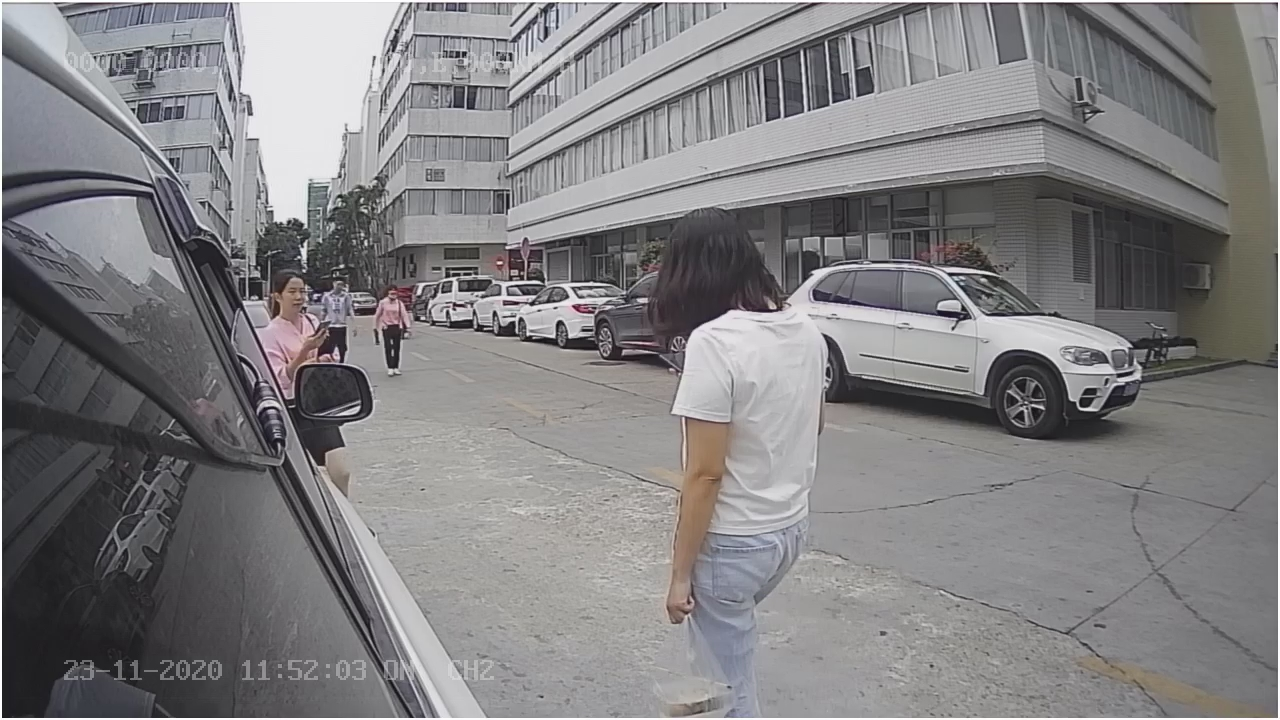person: (648, 192, 850, 567)
